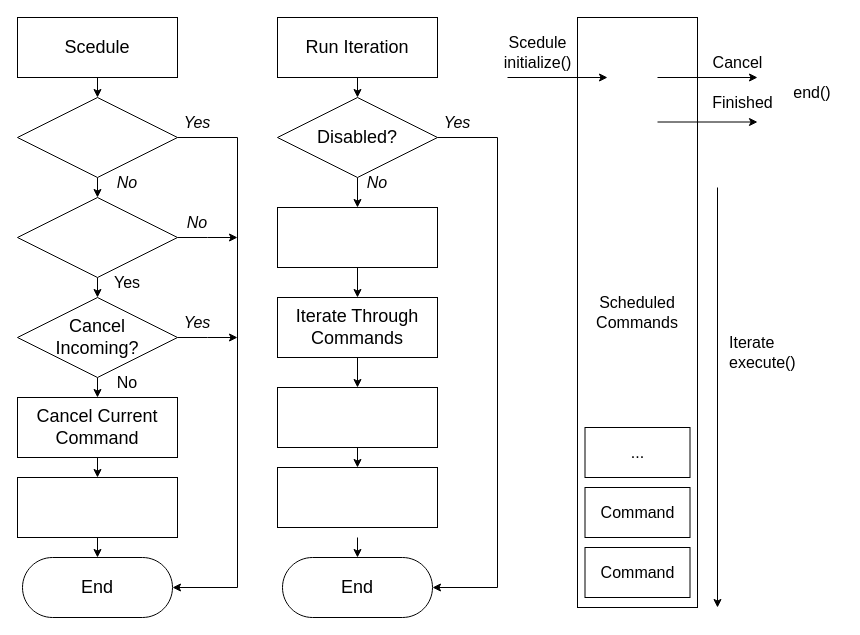
The diagram is 860 pixels wide and 635 high, and some of its shapes have lost their labels. The centre of each missing label's shape, as x and y in pixels:
Composed?: pixel 97 137
Init Command, Add to Set: pixel 97 507
Requirements?: pixel 97 237
Reschedule Default Commands: pixel 357 497
Run Subsystem periodic(): pixel 357 237
Schedule New Commands: pixel 357 417
